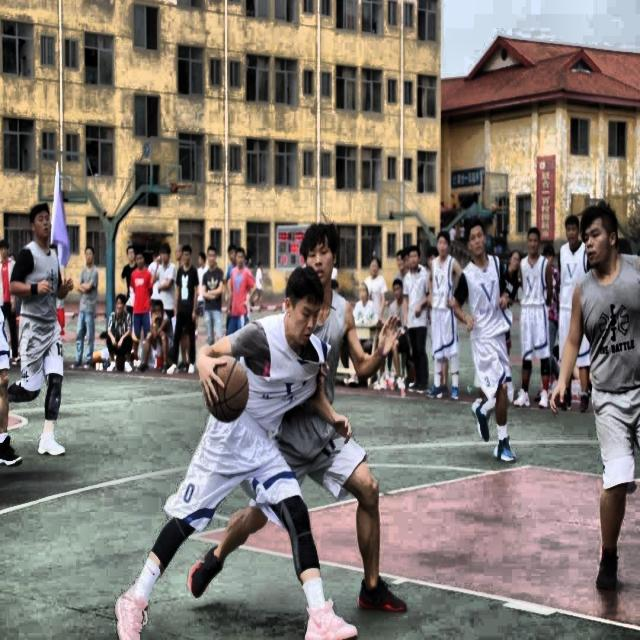board: (208, 356, 249, 423)
